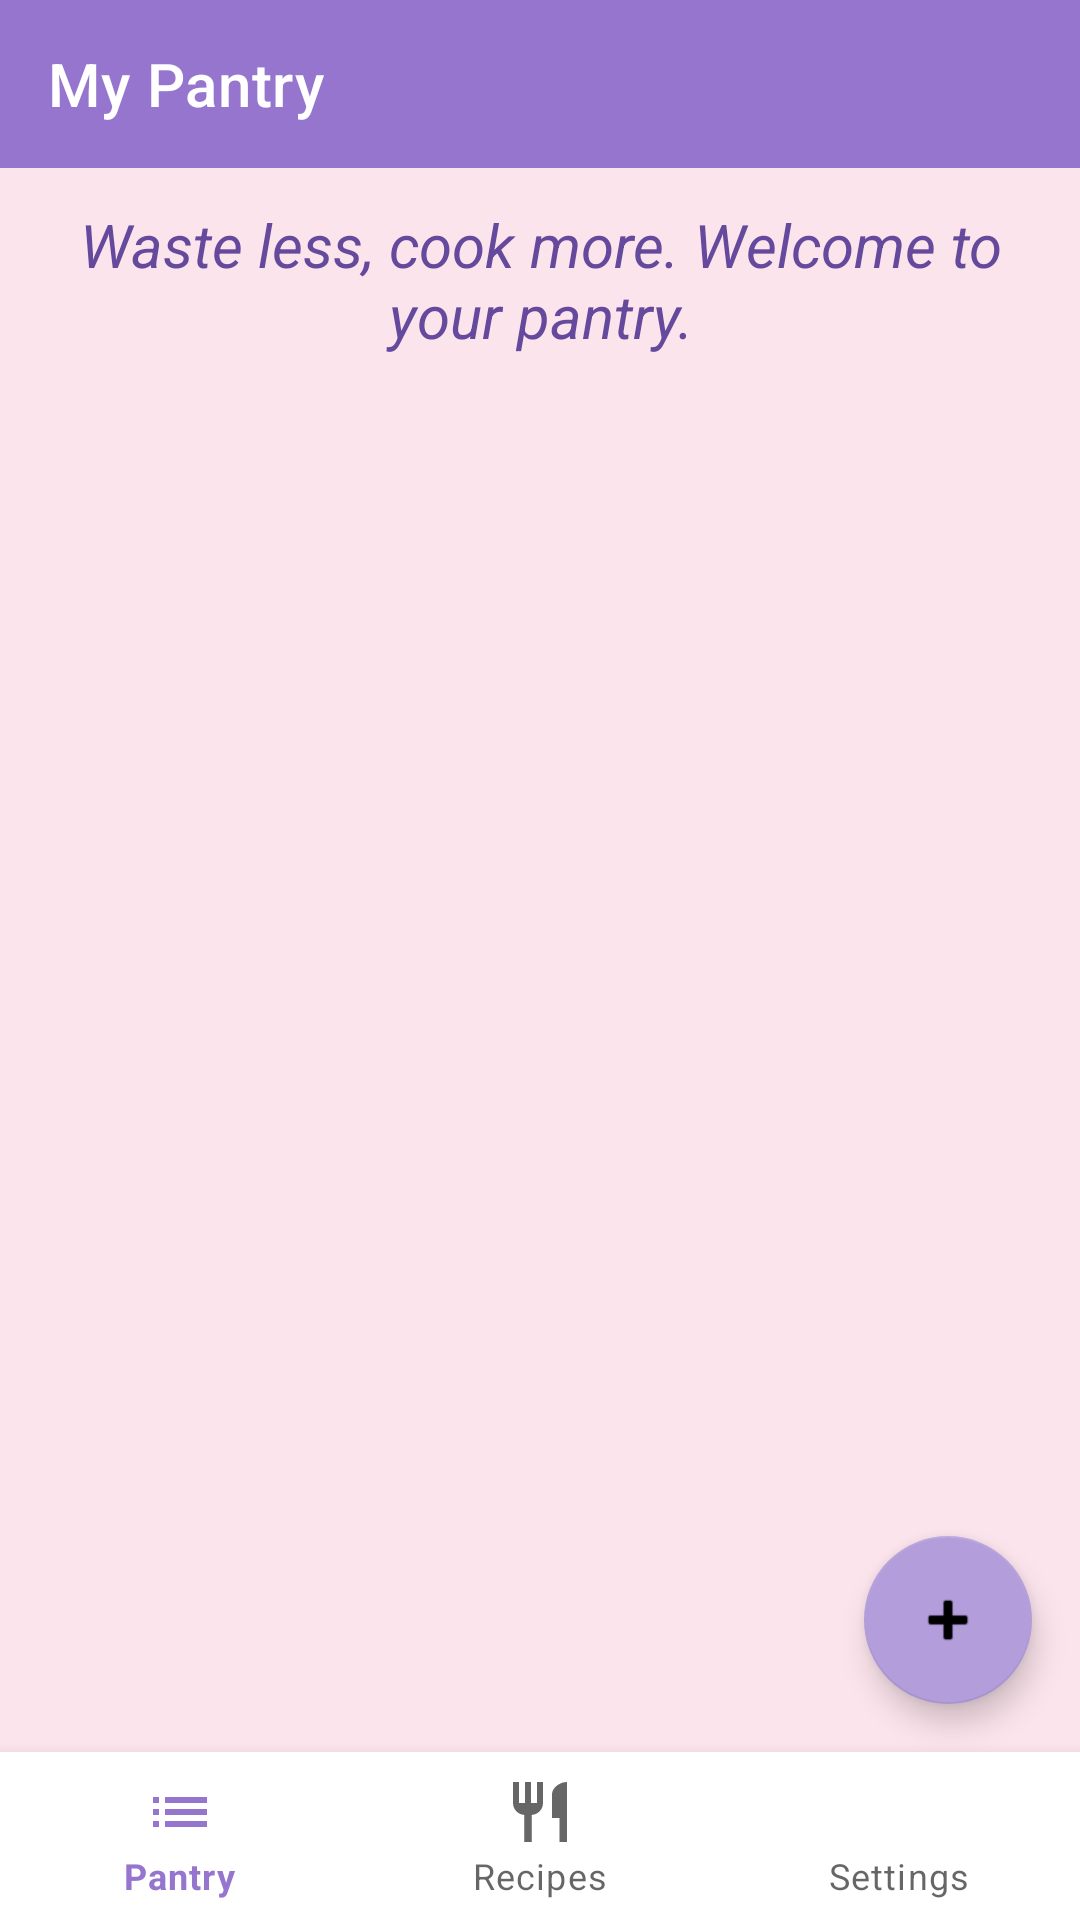

Screen size 1080w x 1920h. Icon name, then its box in pixels as [x1,y1,x2,y2]:
Add ingredient: [864,1536,1032,1704]
